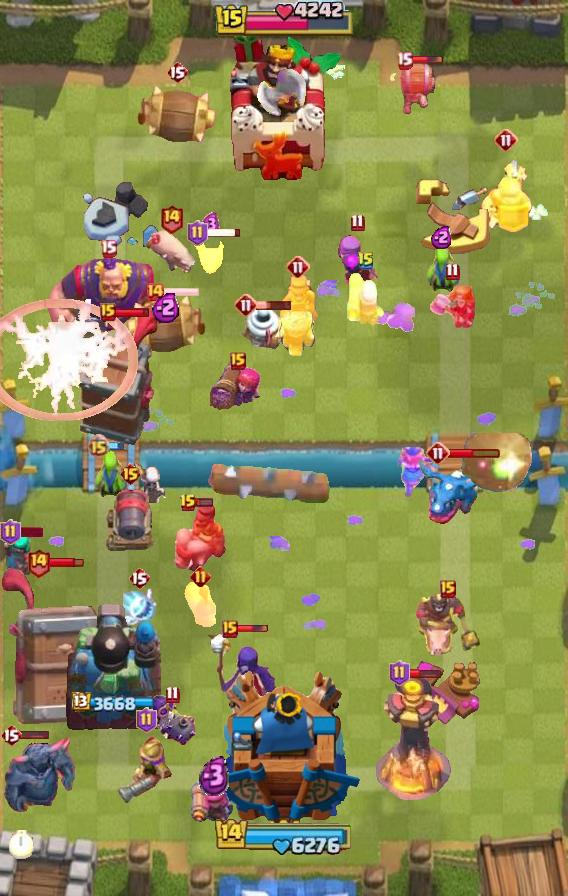axe: (253, 69, 307, 129)
bar: (448, 447, 501, 459), (256, 299, 293, 311), (163, 286, 200, 298), (49, 556, 84, 568), (114, 307, 151, 318), (205, 227, 242, 238), (15, 729, 50, 740), (407, 668, 442, 679), (7, 527, 43, 537), (235, 624, 269, 634), (410, 55, 444, 65), (107, 440, 125, 452), (195, 497, 214, 508)
bar-level: (26, 547, 51, 578), (159, 203, 184, 234), (426, 441, 450, 465), (234, 293, 258, 317), (286, 255, 310, 279), (494, 128, 518, 152), (119, 462, 142, 486), (136, 707, 157, 733), (389, 660, 410, 686), (0, 519, 21, 545), (187, 220, 208, 246), (87, 434, 110, 457), (0, 723, 22, 747), (128, 566, 150, 590), (166, 60, 188, 84), (190, 566, 211, 587), (145, 282, 165, 302), (179, 493, 197, 513), (357, 251, 375, 271), (100, 239, 117, 258), (396, 51, 413, 70), (222, 620, 238, 638), (440, 580, 456, 598), (230, 352, 246, 370), (100, 303, 116, 321), (165, 685, 180, 704), (445, 262, 460, 281), (350, 213, 365, 232)
barbarian-barrel: (124, 293, 208, 355), (135, 83, 219, 145)
bomber-evolution: (146, 694, 198, 750)
cannoneer-tower: (64, 601, 164, 731)
clock: (9, 830, 34, 859)
electro-dragon: (416, 457, 486, 525)
elixir: (199, 755, 230, 796), (152, 291, 181, 323), (431, 225, 453, 249), (201, 212, 220, 238)
firecracker: (189, 776, 239, 830), (345, 270, 387, 328)
firecracker-evolution: (210, 359, 266, 421)
goblin: (90, 449, 130, 501), (422, 243, 462, 295)
hog: (143, 229, 199, 279)
ice-spirit: (121, 586, 157, 626)
king-tower: (207, 669, 362, 826), (224, 23, 344, 181)
king-tower-bar: (213, 0, 355, 40), (214, 816, 354, 856)
lava-pup: (193, 237, 227, 275)
mother-witch: (332, 234, 382, 304)
musketeer: (117, 735, 175, 805)
ram-rider: (169, 499, 229, 573), (275, 273, 321, 357)
rascal-girl: (0, 530, 36, 578)
royal-hog: (184, 575, 216, 627)
royal-recruit: (478, 157, 534, 237)
skeleton: (133, 461, 167, 503)
the-log: (208, 463, 332, 503)
tower-bar: (72, 692, 157, 714)
valkyrie: (395, 445, 443, 499), (428, 284, 476, 330)
wall-breaker: (388, 60, 438, 116)
witch: (203, 629, 279, 709)
zappy: (238, 301, 284, 357)
